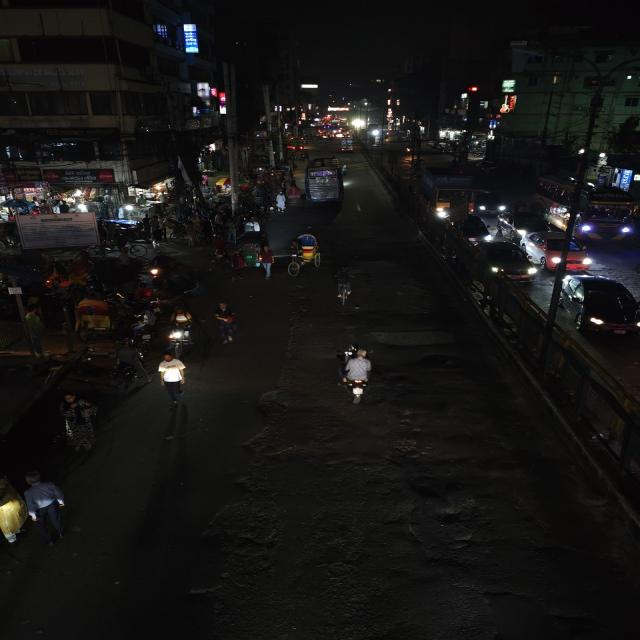bicycle: (328, 266, 359, 310)
bus: (530, 172, 640, 241), (302, 157, 348, 206)
car: (547, 272, 640, 340), (468, 240, 539, 284), (525, 230, 594, 272), (497, 211, 557, 237), (448, 213, 493, 243), (475, 187, 507, 215)
motorcycle: (330, 344, 380, 406), (108, 341, 144, 395), (119, 298, 162, 336), (165, 305, 198, 349)
pedestrian: (24, 468, 69, 542), (51, 395, 102, 454), (0, 472, 27, 554), (156, 352, 191, 412), (211, 302, 239, 346), (225, 251, 247, 282), (258, 244, 276, 279), (210, 232, 229, 264), (273, 192, 288, 214)
rickshaw: (74, 296, 122, 340), (42, 258, 100, 294), (288, 232, 327, 268), (163, 217, 192, 246)
truck: (415, 162, 476, 220)
